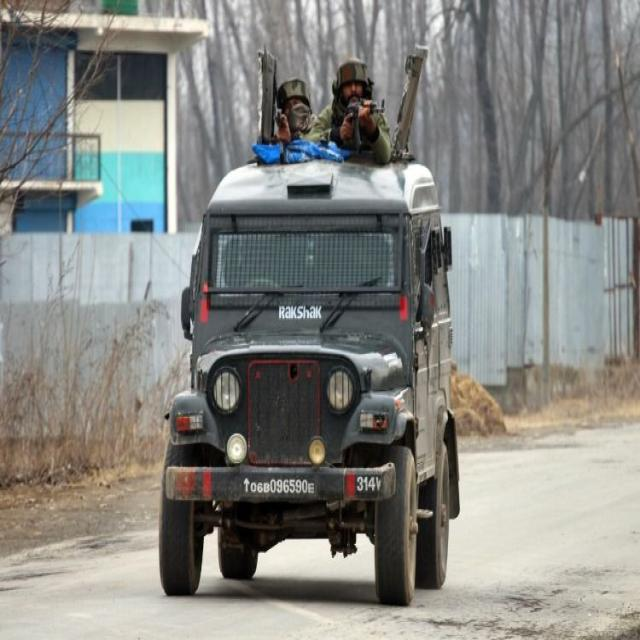military-plate: (240, 474, 318, 498)
unit number: (355, 473, 382, 495)
